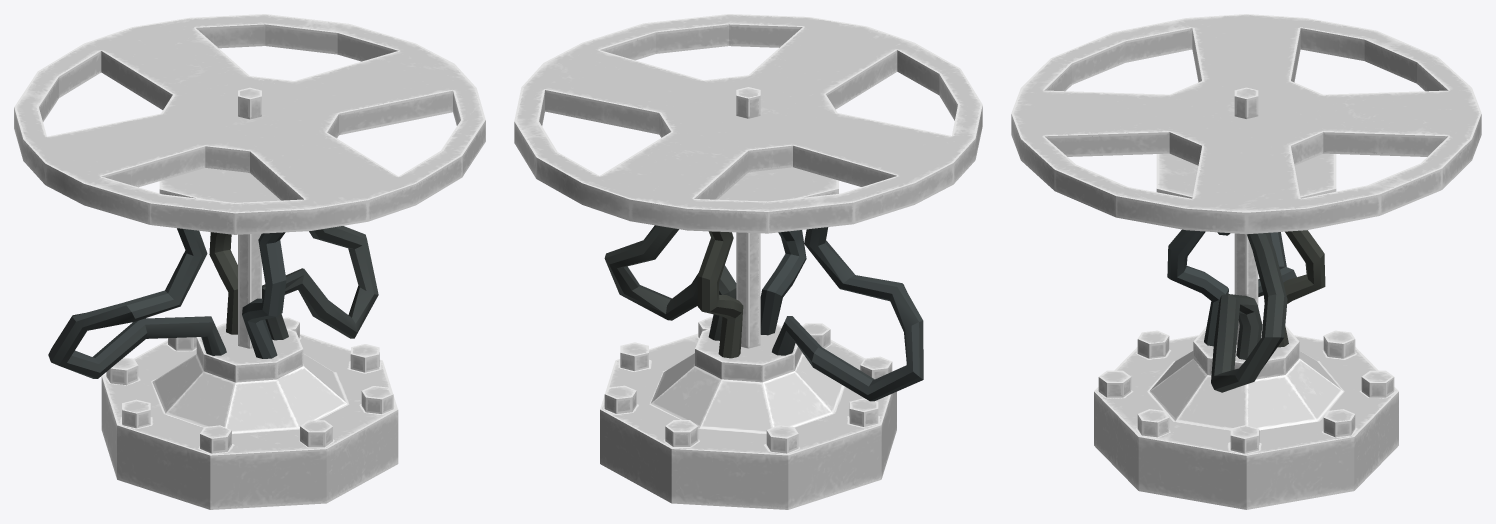
Rendered from Valve.glb.
3 views of the same model, side by side, from view 1: azimuth 30°, elevation 25°; view 2: azimuth 150°, elevation 25°; view 3: azimuth 270°, elevation 25° (orthographic).
Visible parts, largest first — view 1: valve; view 2: valve; view 3: valve.
Boxes of the visible parts, left/top/right/bottom form: valve: left=14, top=14, right=485, bottom=509; valve: left=514, top=14, right=982, bottom=509; valve: left=1011, top=14, right=1481, bottom=509.
Size of what is drawn, in the model's own units: 1.1 by 0.9105 by 1.1.
2 materials, 2 textured.
